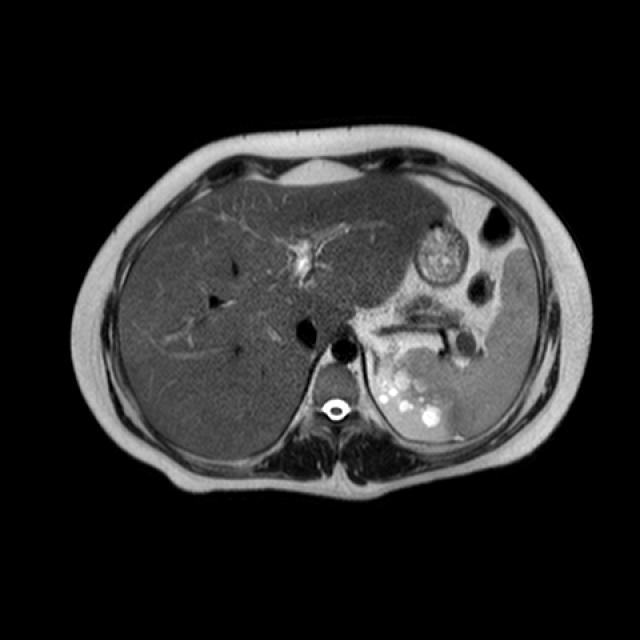sol: (375, 359, 449, 431)
